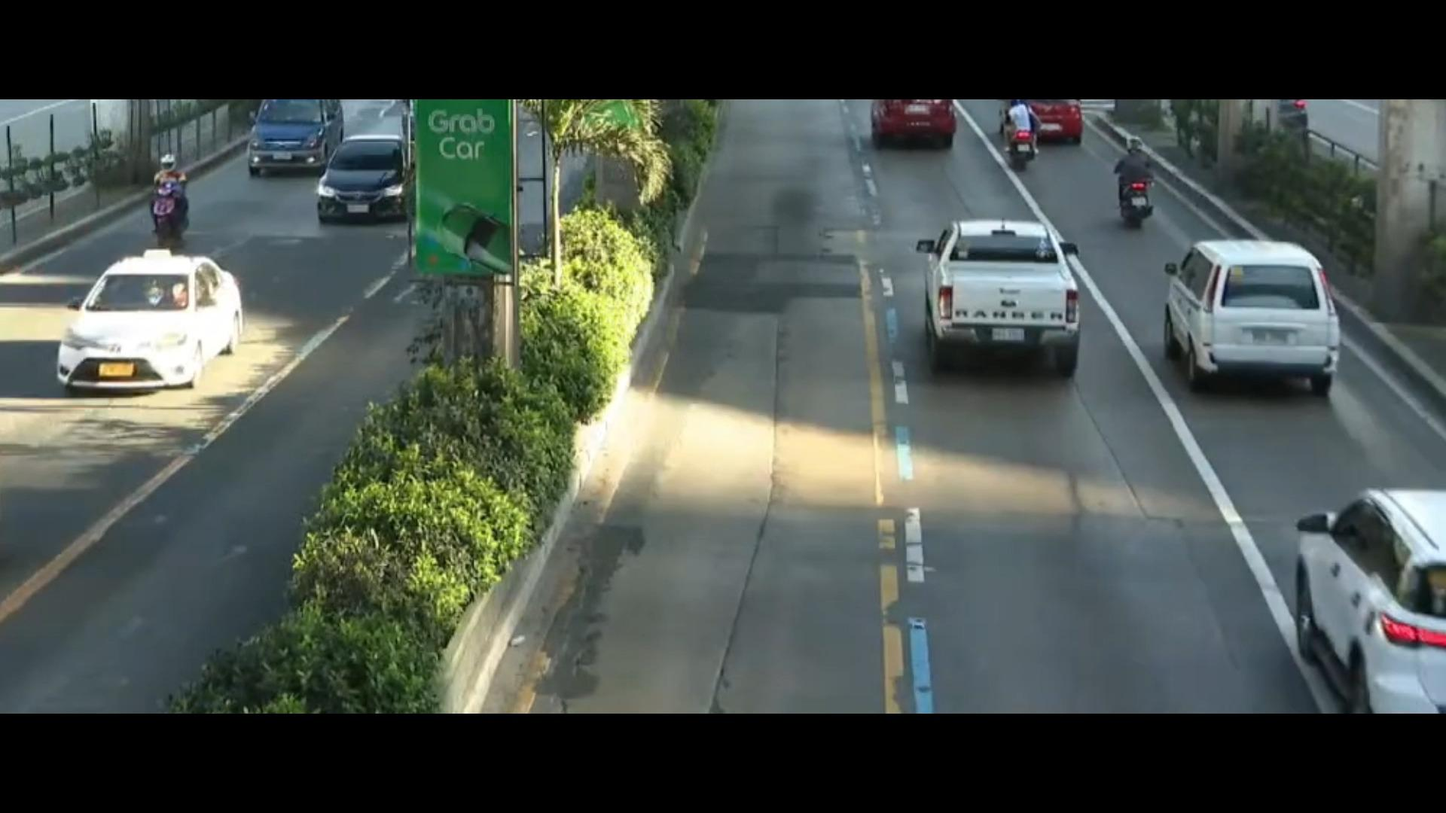Motorcycle: (139, 142, 217, 234), (1109, 138, 1175, 226), (990, 104, 1055, 173)
Pickup: (897, 194, 1101, 377)
SUV: (1279, 460, 1446, 709), (1156, 219, 1356, 410), (238, 94, 343, 184)
Sedan: (50, 247, 256, 413), (307, 138, 413, 233)
